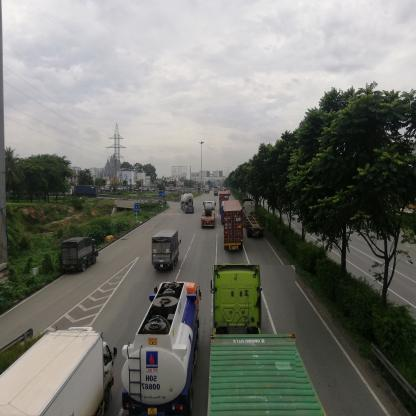container: (211, 266, 297, 416), (130, 283, 201, 416), (225, 201, 242, 251), (246, 201, 257, 239), (67, 187, 99, 198), (203, 202, 216, 225)
truck: (2, 327, 115, 416), (64, 238, 97, 276), (153, 231, 182, 270), (181, 194, 194, 215)
